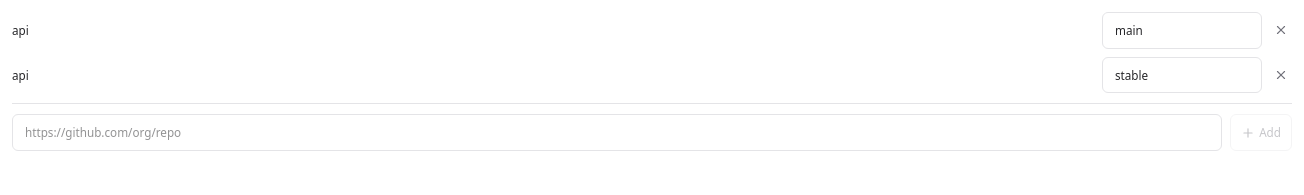
Test: SandboxRepositoryPicker › edits and removes inherited duplicate repositories independently
Replace the text in the 2nd field named "Branch for api" with "release" at (1182, 75), box [1102,57,1262,93]
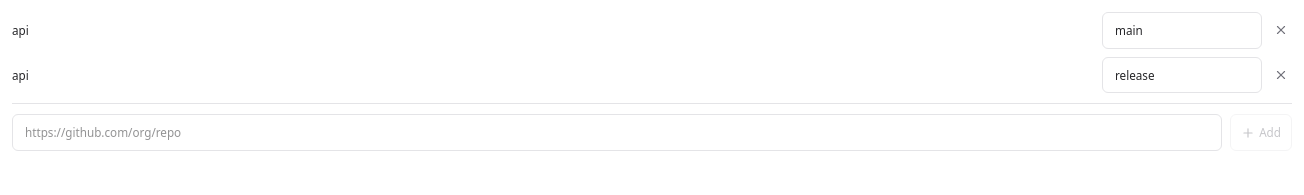
Expected: the 1st field named "Branch for api" holds "main", [1102,12,1262,49]
Click the 1st button named "Remove api" at (1281, 30), box [1270,19,1292,41]
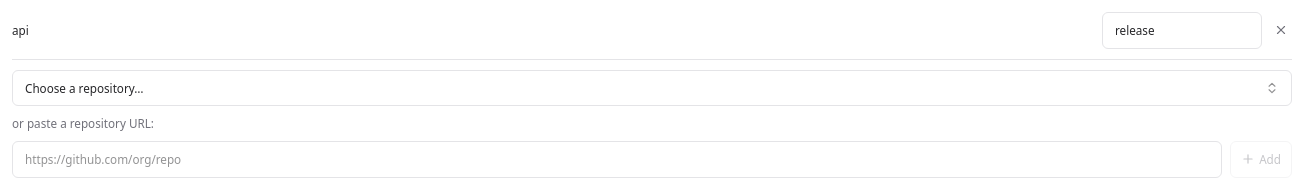
Expected: the field named "Branch for api" holds "release", [1102,12,1262,49]
